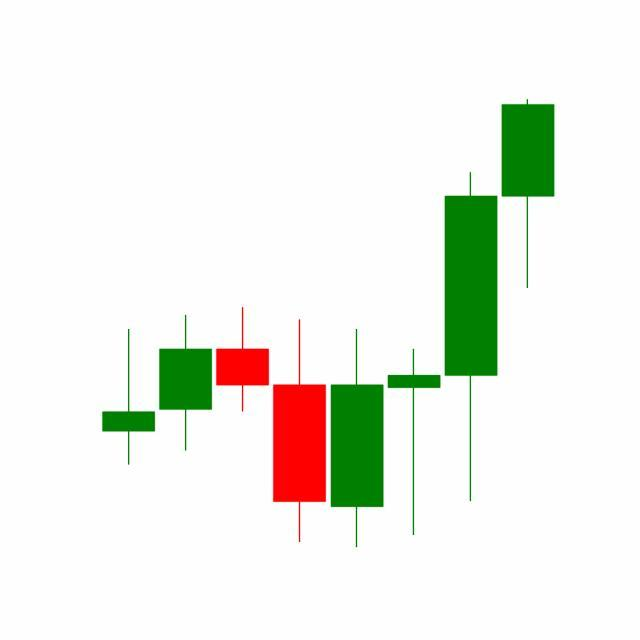Hikkake Pattern: (214, 168, 501, 549)
